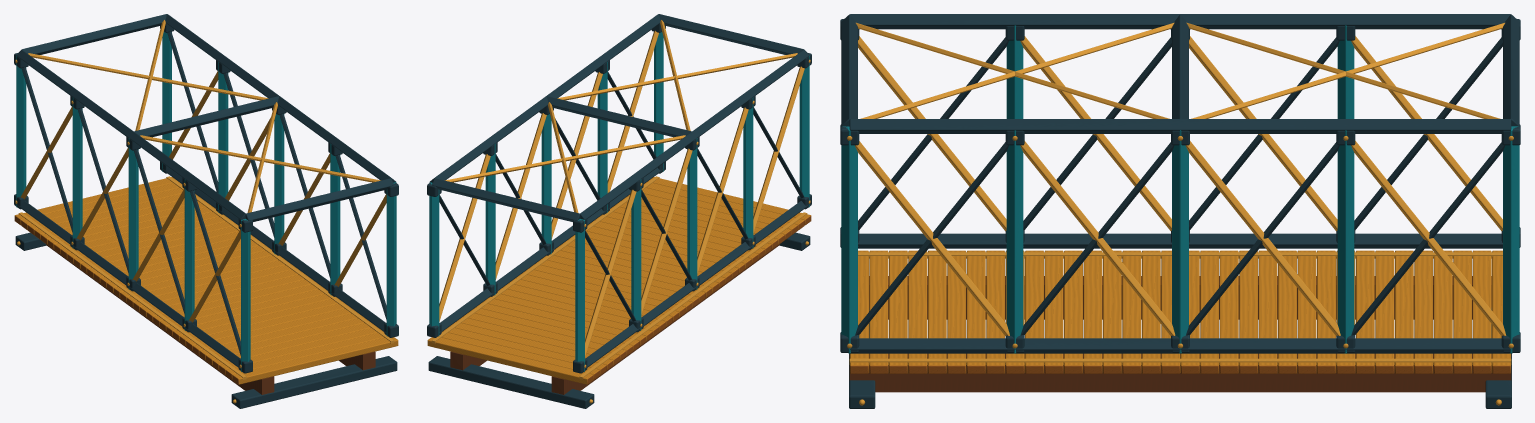
Rendered from Building_Bridge_SteelTruss8m_001.glb.
3 views of the same model, side by side, from view 1: azimuth 30°, elevation 25°; view 2: azimuth 150°, elevation 25°; view 3: azimuth 270°, elevation 25° (orthographic). The views are drawn at different scales.
Visible parts, largest first — view 1: SteelTruss8m_Body; view 2: SteelTruss8m_Body; view 3: SteelTruss8m_Body.
Boxes of the visible parts, x1,y1,x2,y2 form: SteelTruss8m_Body: (14, 14, 398, 408); SteelTruss8m_Body: (427, 14, 811, 408); SteelTruss8m_Body: (840, 14, 1520, 408).
Size of the model in its own units: 3.35 by 3.82 by 8.23.
Materials: 1 (1 with a texture image).
